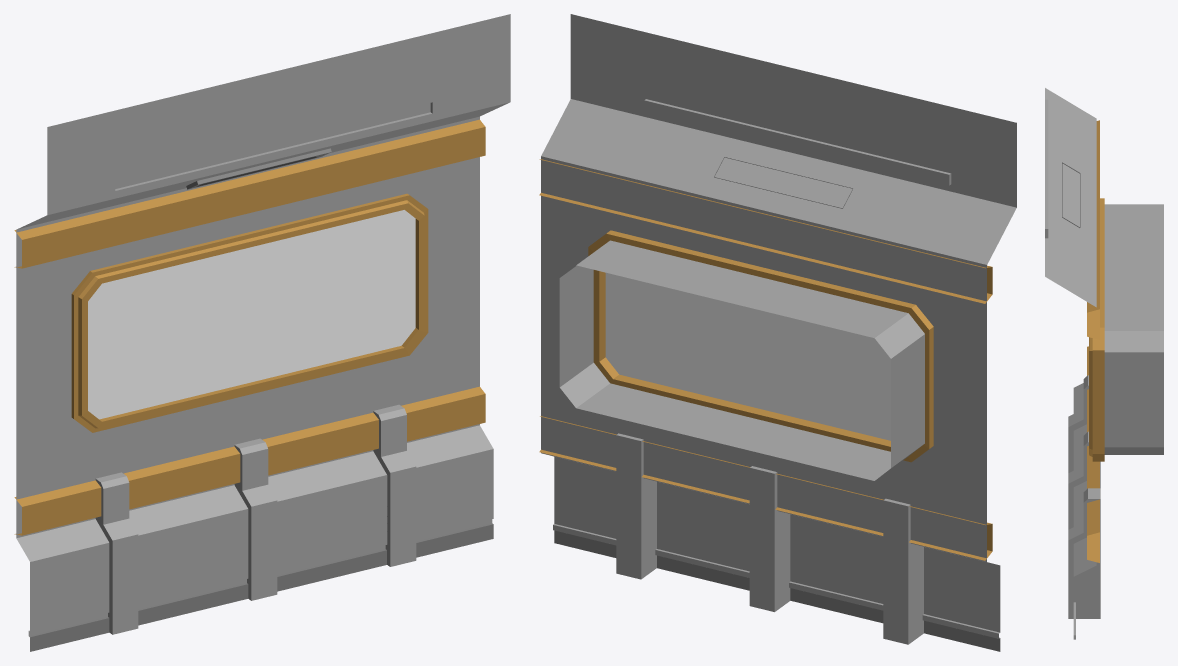
File: Window_Wall_SideA.glb
3 views of the same model, side by side, from view 1: azimuth 30°, elevation 25°; view 2: azimuth 150°, elevation 25°; view 3: azimuth 270°, elevation 25° (orthographic). The views are drawn at different scales.
Visible parts, largest first — view 1: Window_Wall_SideA; view 2: Window_Wall_SideA; view 3: Window_Wall_SideA.
Part boxes in pixels (x1=…): Window_Wall_SideA: x1=14, y1=14, x2=510, y2=651; Window_Wall_SideA: x1=539, y1=14, x2=1016, y2=651; Window_Wall_SideA: x1=1045, y1=88, x2=1163, y2=639.
Bounding box in the file's own units: 4 × 4.43 × 1.06.
